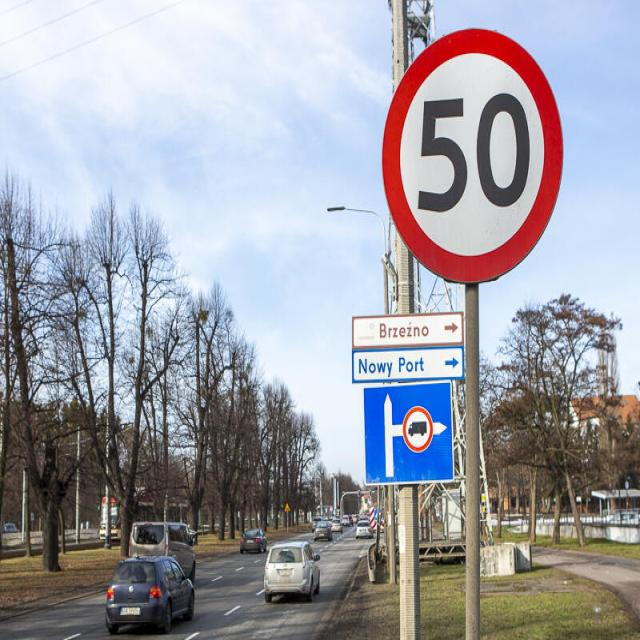Speed Limit -50-: (416, 90, 531, 214)
